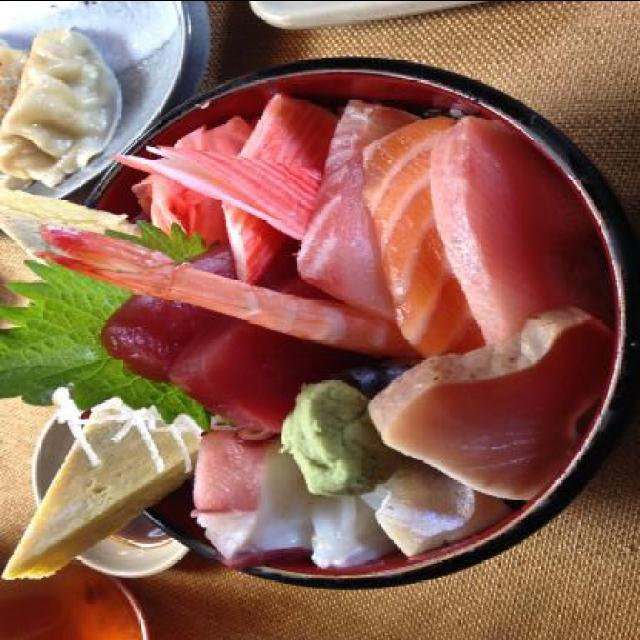Cheese: (0, 410, 200, 579)
